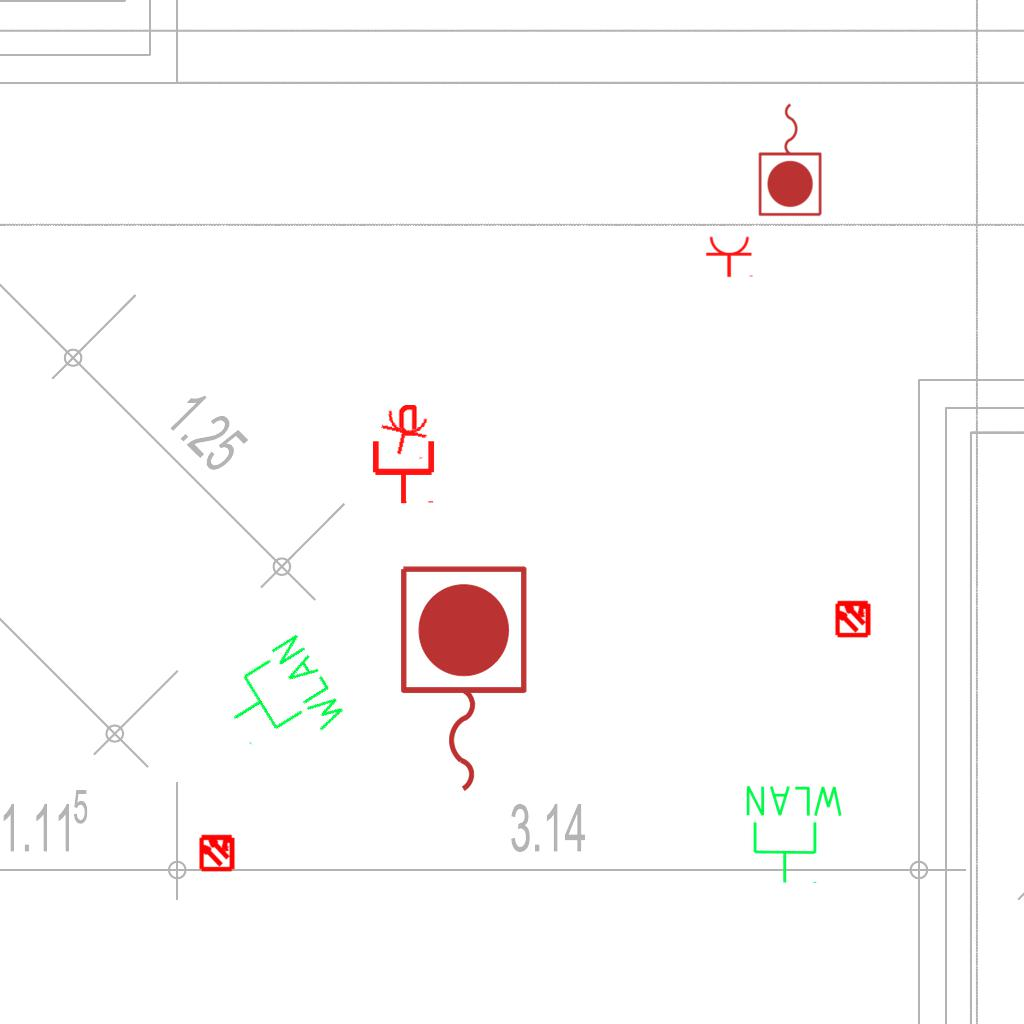Datenanschluss_einfach: (369, 405, 438, 505)
OT_Multisensormelder_(Kombination_RMO_WMD): (825, 590, 881, 646), (189, 824, 245, 880)
Schukosteckdose_einfach: (375, 407, 434, 461), (705, 235, 755, 278)
WLAN: (209, 628, 353, 773), (742, 782, 847, 886)
Zugtaster: (390, 558, 534, 802), (755, 98, 827, 220)
